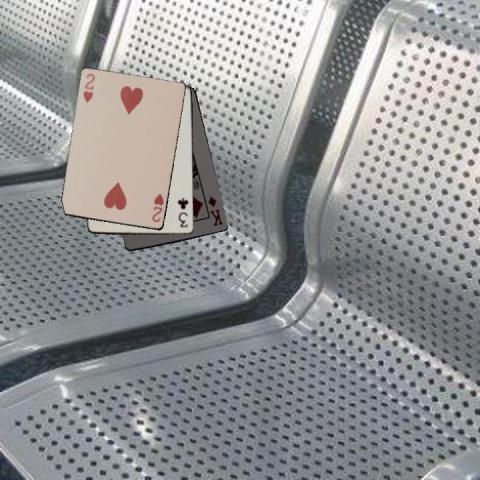2h: (80, 70, 96, 104), (150, 191, 166, 224)
3c: (175, 195, 190, 229)
Kd: (205, 193, 225, 228)
